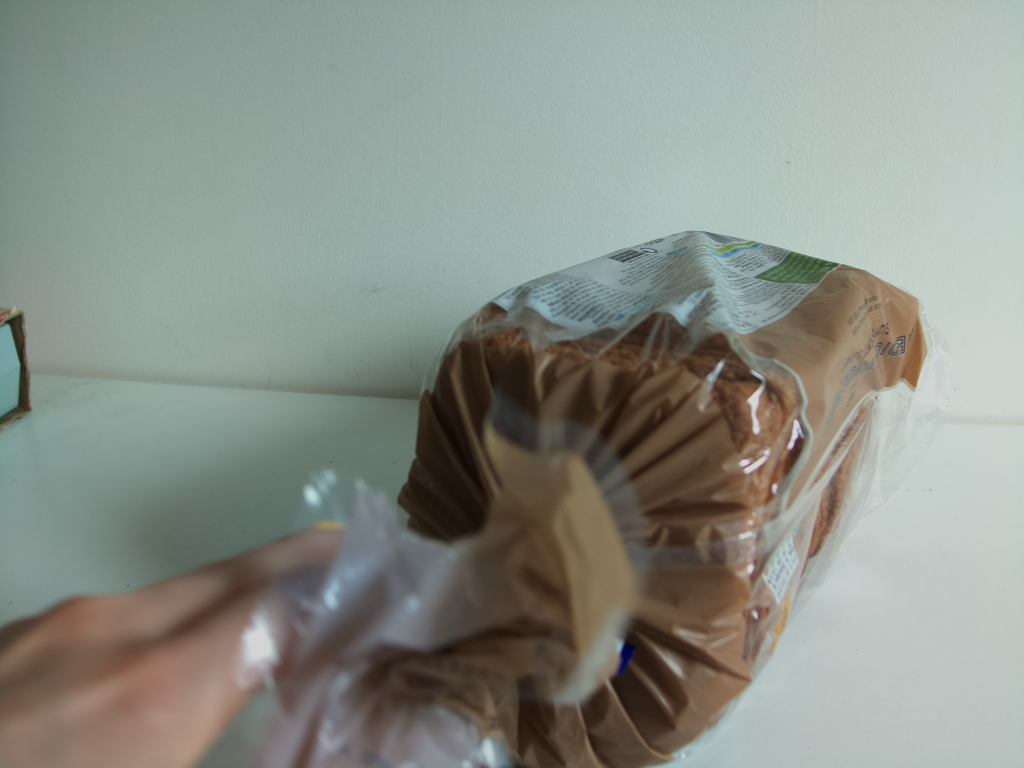bread: (208, 224, 954, 768)
